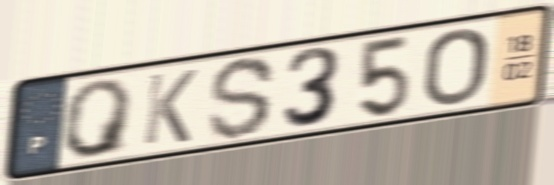3: (279, 44, 347, 131)
5: (354, 30, 413, 121)
K: (139, 66, 200, 149)
O: (420, 25, 492, 109)
Q: (61, 75, 138, 162)
S: (205, 53, 280, 143)
